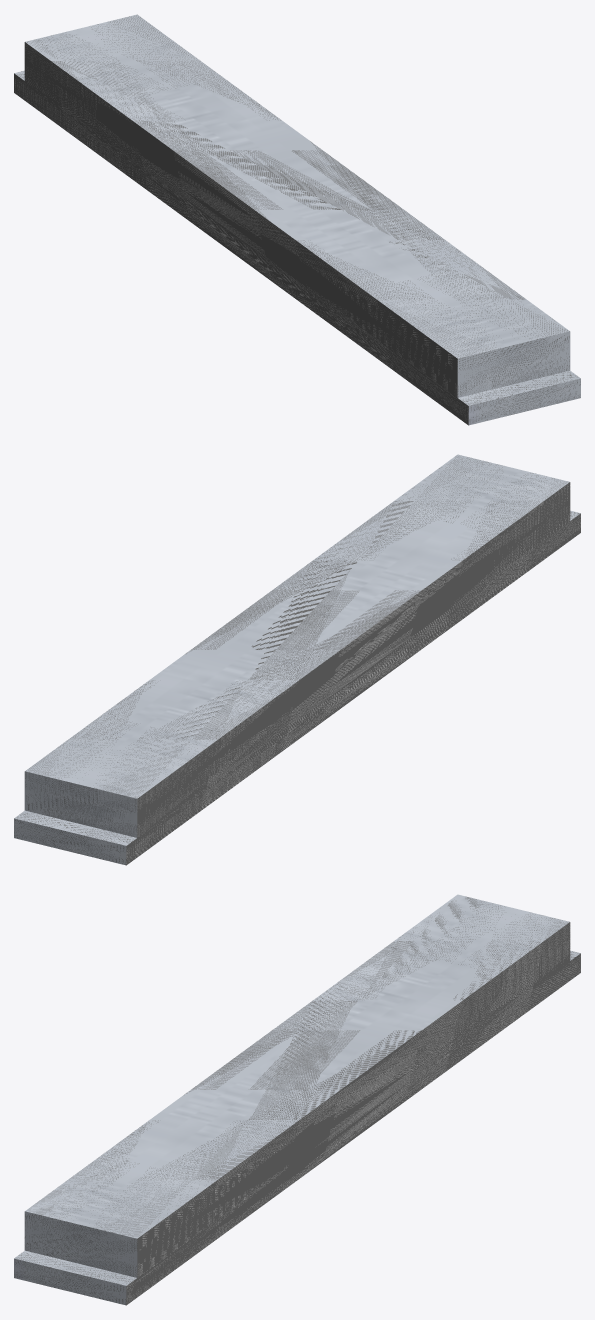
File: original-18.obj
3 views of the same model, one above another, from view 1: azimuth 30°, elevation 25°; view 2: azimuth 150°, elevation 25°; view 3: azimuth 330°, elevation 25° (orthographic).
Parts seen in each view (by area): view 1: rail1/rail/mesh30/mesh30-geometry#mesh30-geometry; view 2: rail1/rail/mesh30/mesh30-geometry#mesh30-geometry; view 3: rail1/rail/mesh30/mesh30-geometry#mesh30-geometry.
Boxes of the visible parts, bbox=[...] form: rail1/rail/mesh30/mesh30-geometry#mesh30-geometry: bbox=[14, 14, 580, 425]; rail1/rail/mesh30/mesh30-geometry#mesh30-geometry: bbox=[14, 454, 580, 865]; rail1/rail/mesh30/mesh30-geometry#mesh30-geometry: bbox=[14, 894, 580, 1305].
Bounding box in the file's own units: 0.0513 × 0.0256 × 0.3591.
